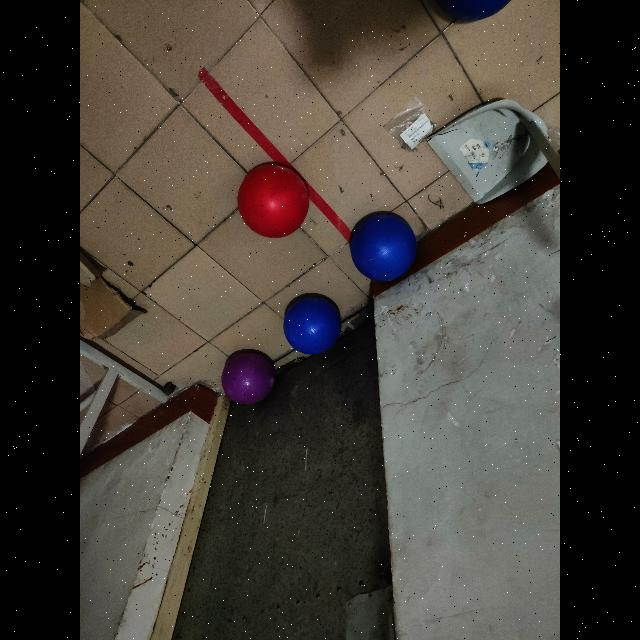B: (350, 212, 420, 286), (280, 294, 342, 358), (428, 0, 518, 24)
P: (218, 347, 276, 405)
R: (238, 162, 312, 240)
